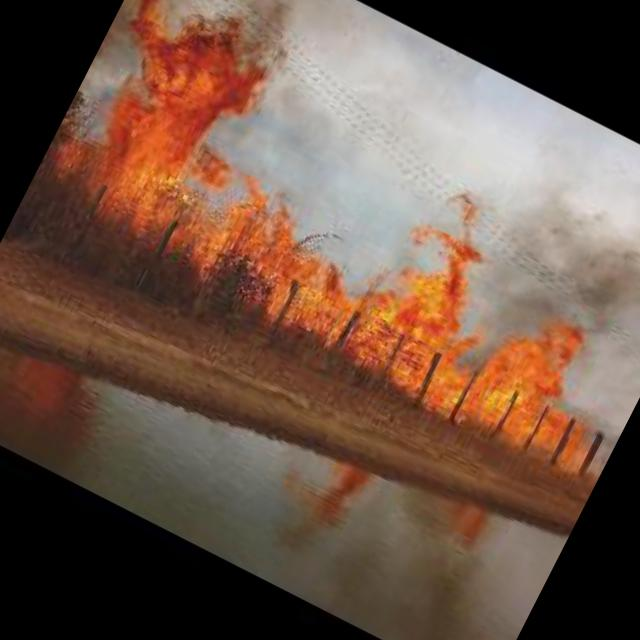fire: (20, 0, 640, 489)
smoke: (453, 103, 640, 422), (91, 0, 238, 97)
